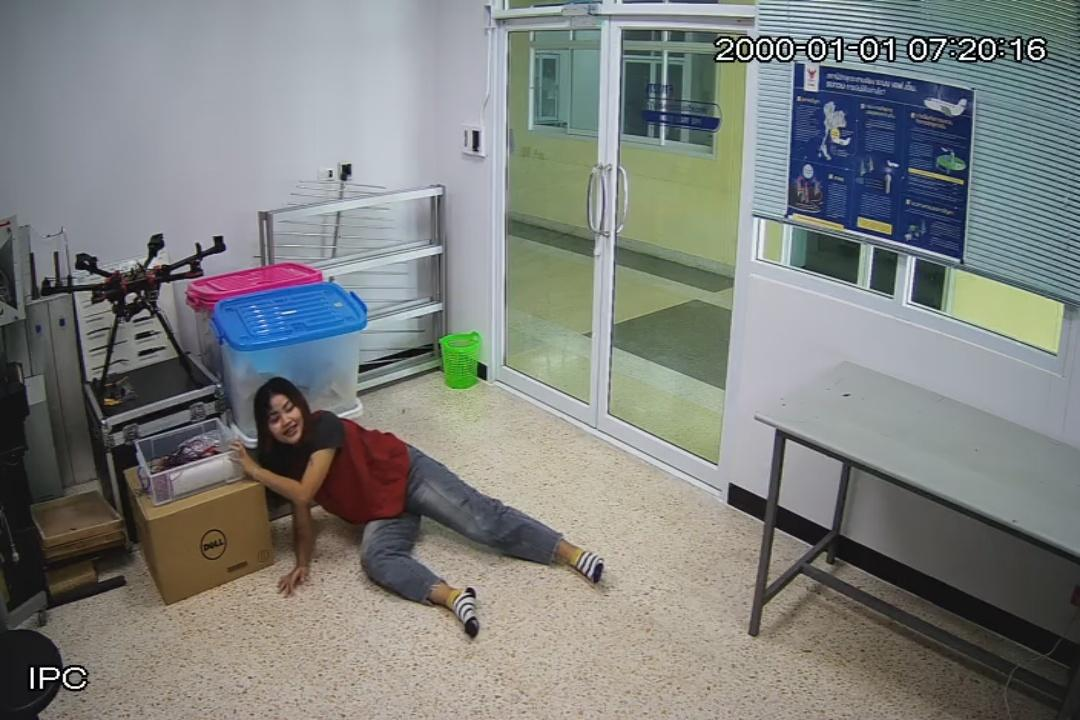fall: (235, 377, 605, 641)
